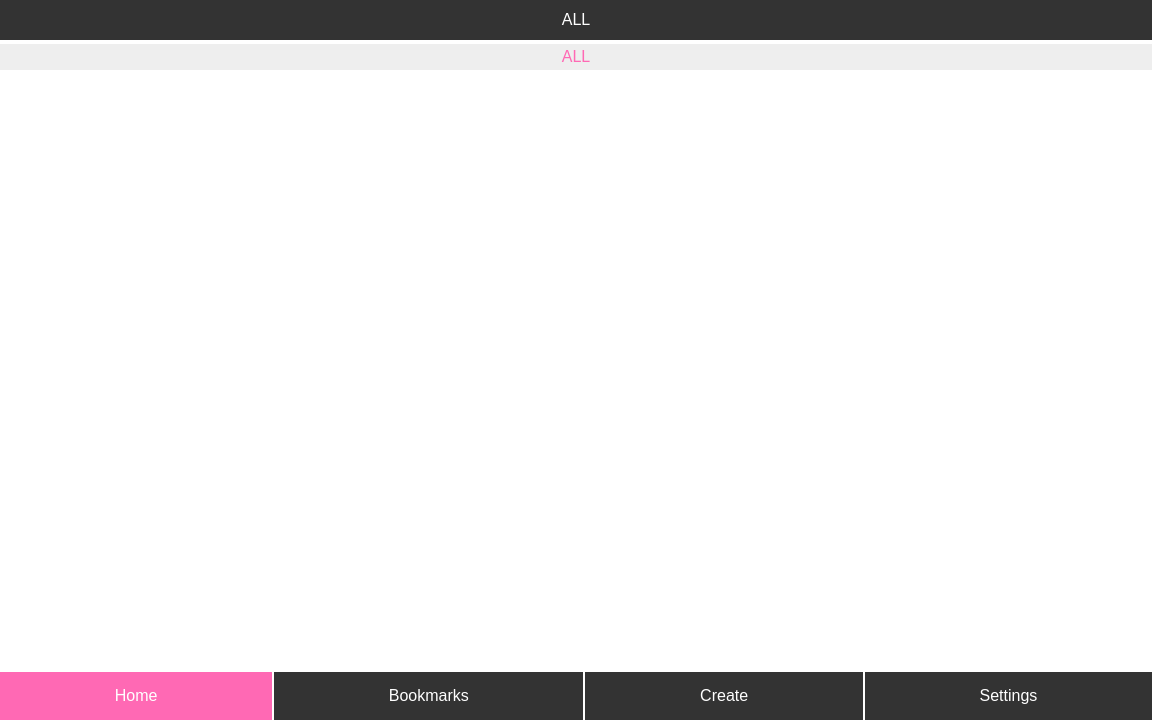
Learning App › Create › creates tags from tag input
Click the link "Create" at {"x": 724, "y": 696}, box [585,672,862,719]
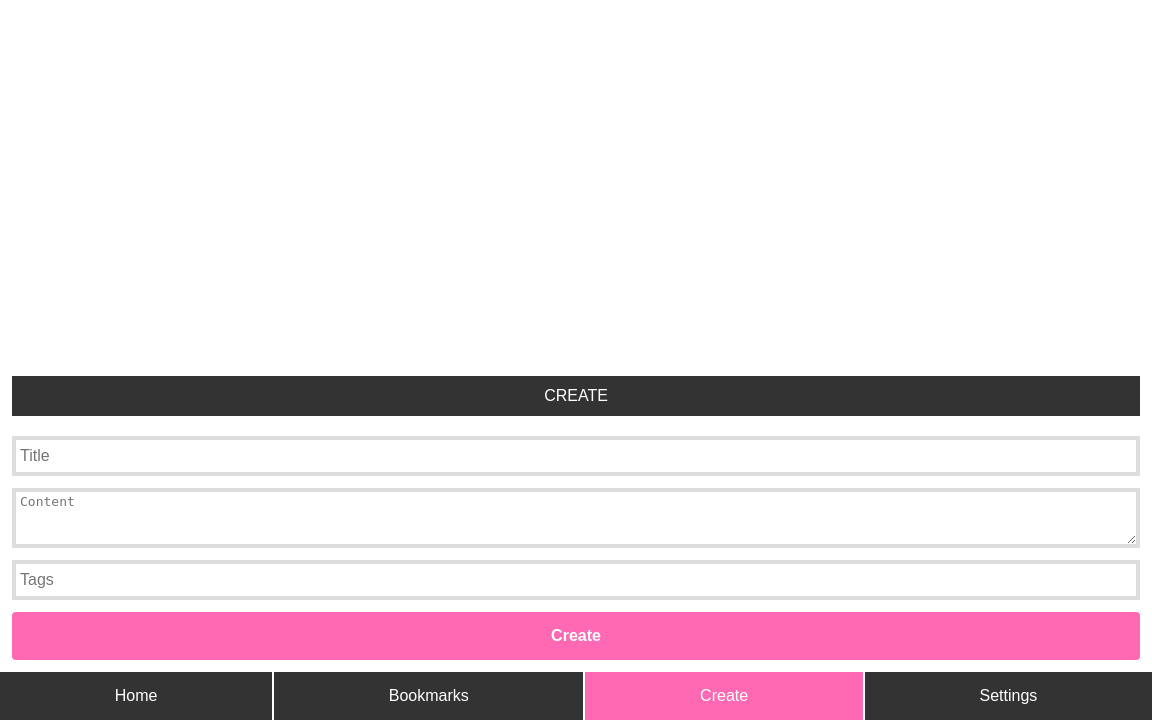
Type "foo, bar, baz" into the field named "tags" at {"x": 576, "y": 580}, box [12,560,1140,600]
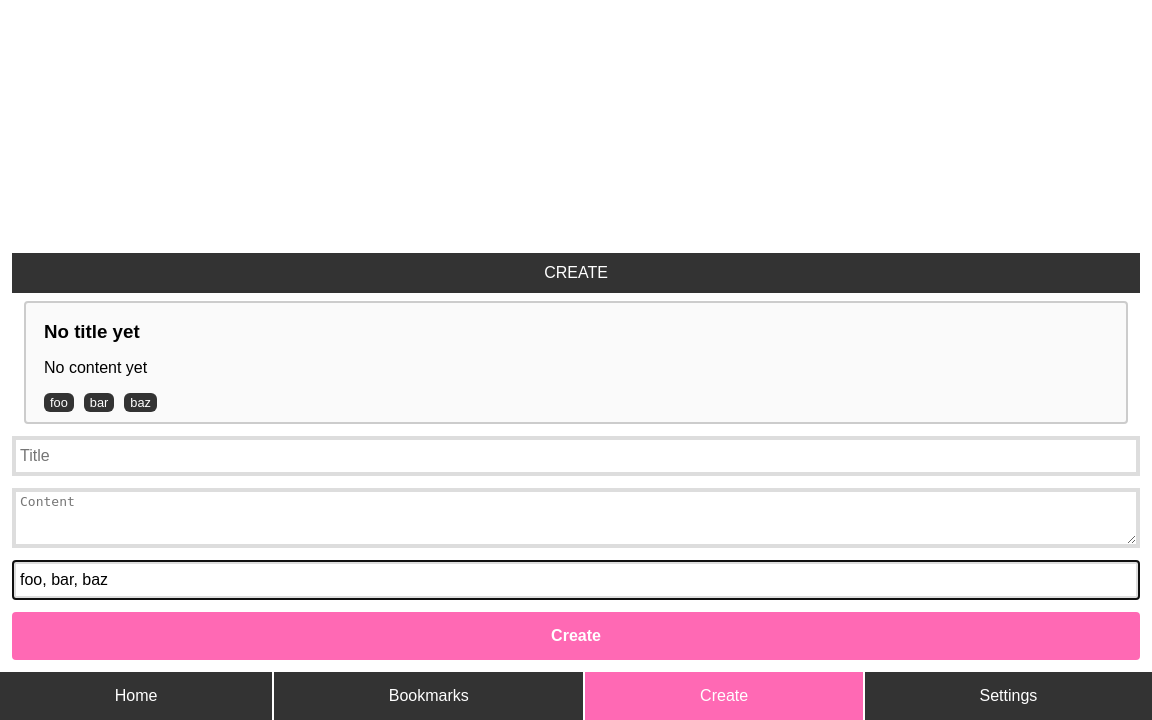
Expected: the number of list items is 3, [44,393,74,412]; [84,393,114,412]; [124,393,157,412]
Expected: the list item "foo" is shown, [44,393,74,412]
